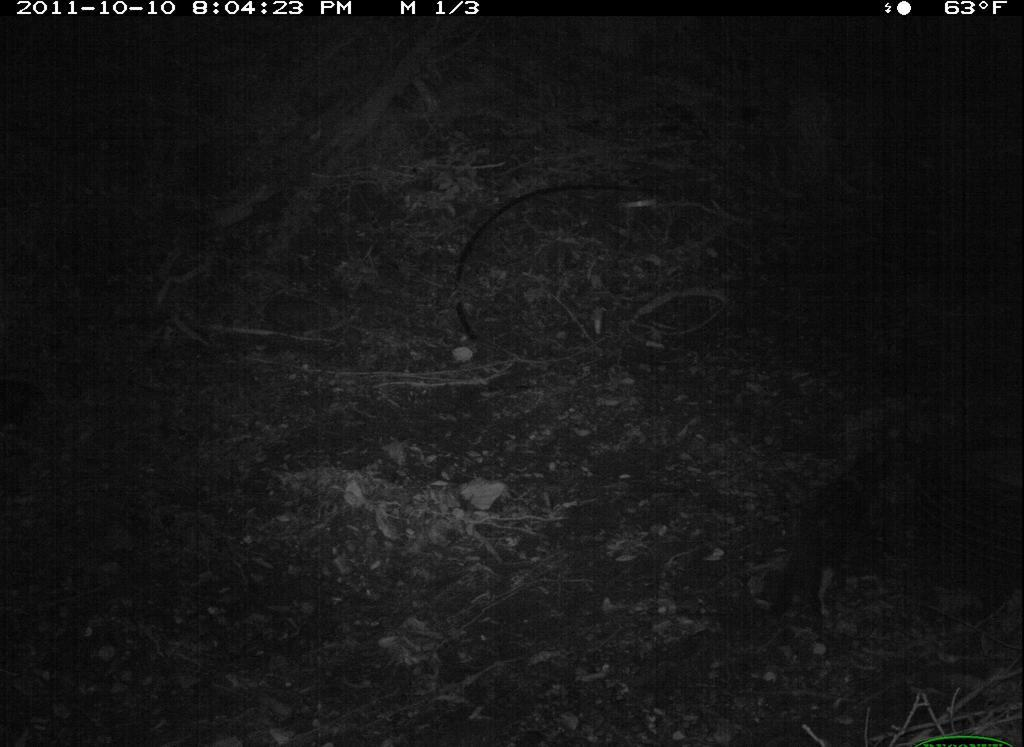cat: (762, 434, 907, 634)
